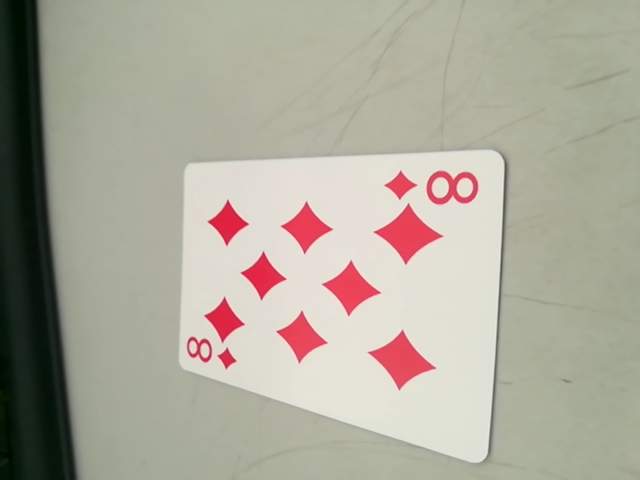fk 8: (385, 161, 482, 210), (181, 334, 243, 374)
